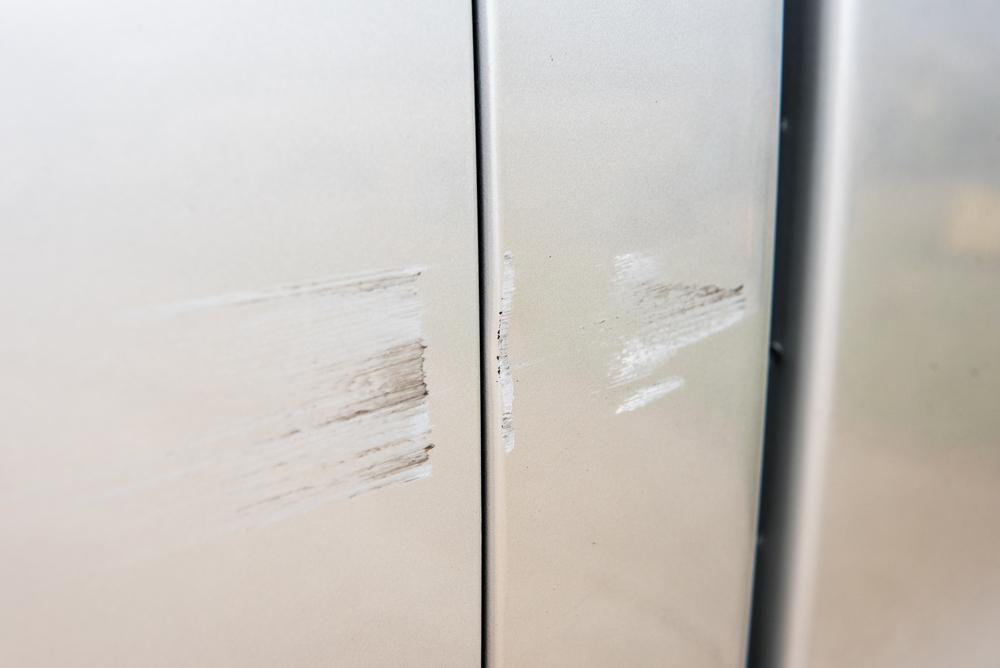scratch: (96, 263, 439, 580), (492, 247, 762, 459)
